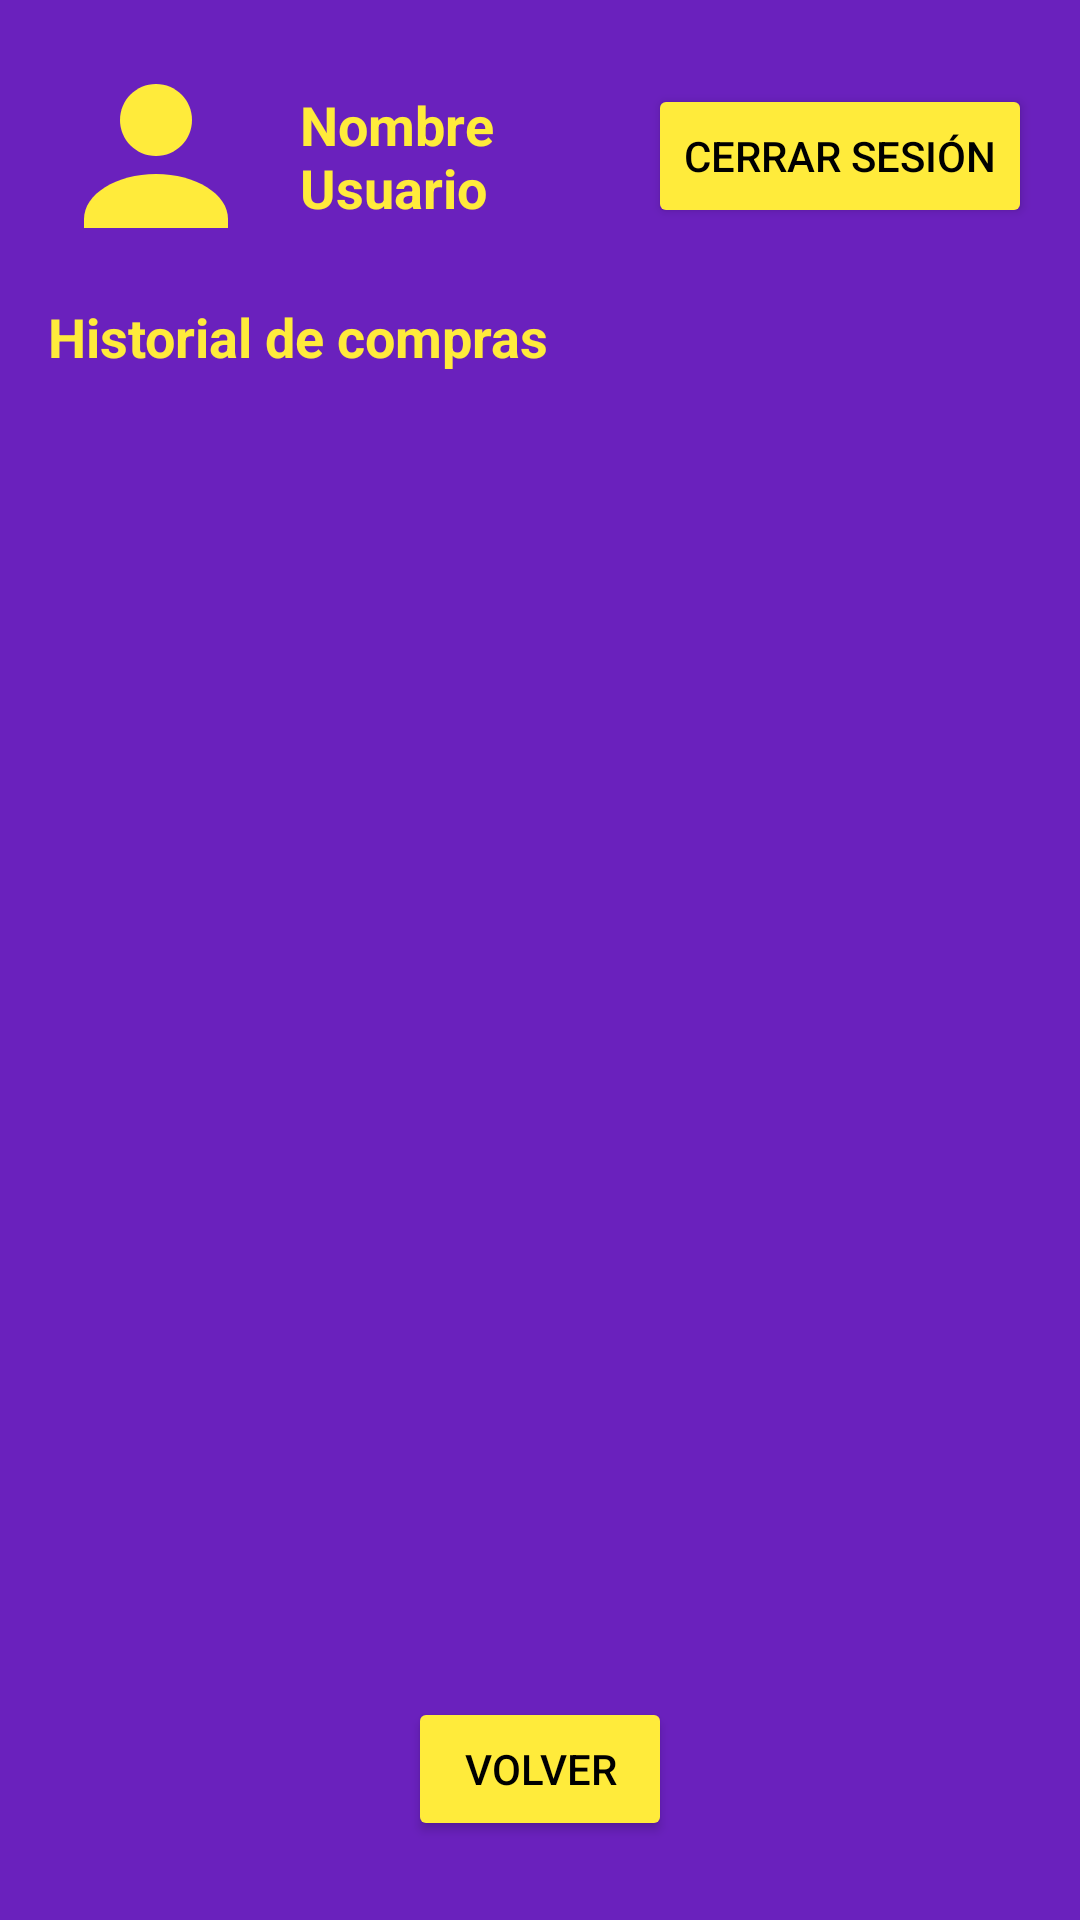

Screen size 1080 x 1920. Icon name, then its box in pixels as box=[x1, y1, x2, y2]:
Perfil: box=[84, 84, 228, 228]
